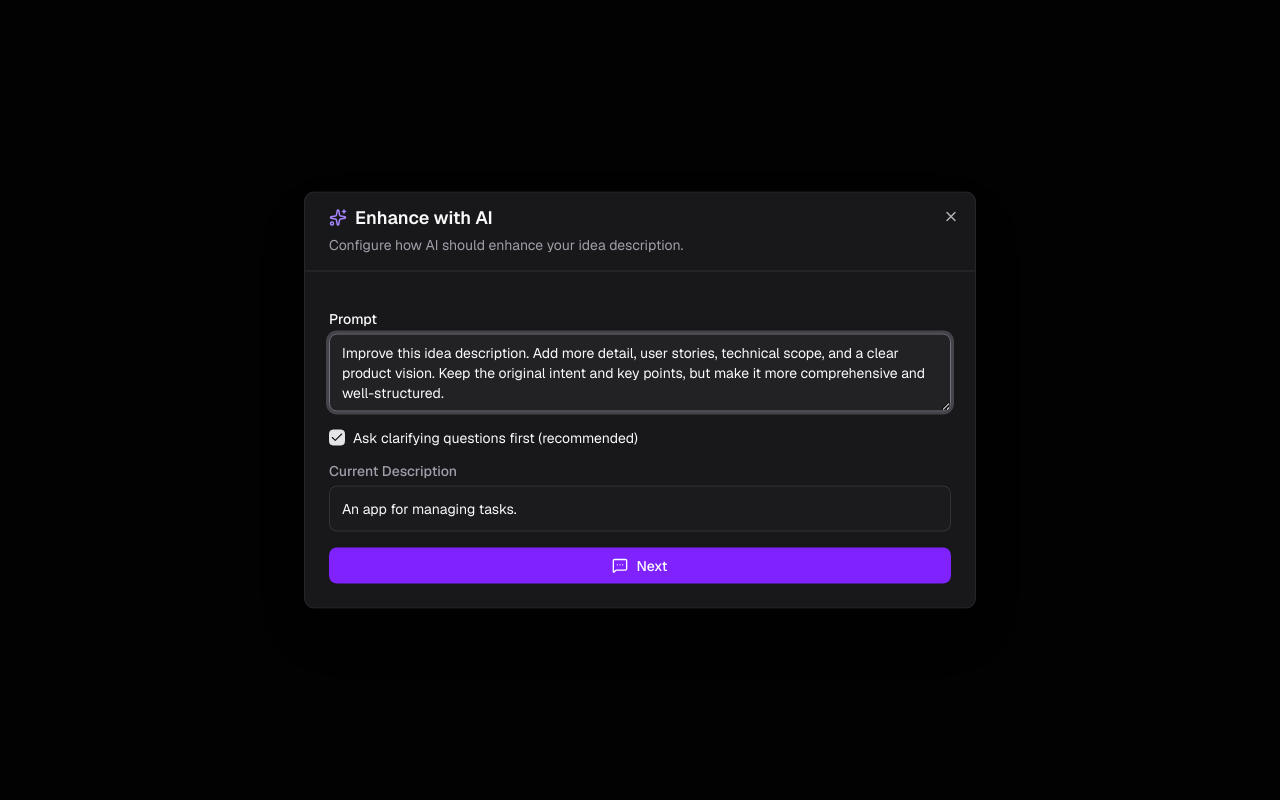
Test: EnhanceDialogShell — question generation (regression test for the original bug) › transitions to questions phase after successful generation
Click the button "Next" at [640, 566], box [329,548,951,584]
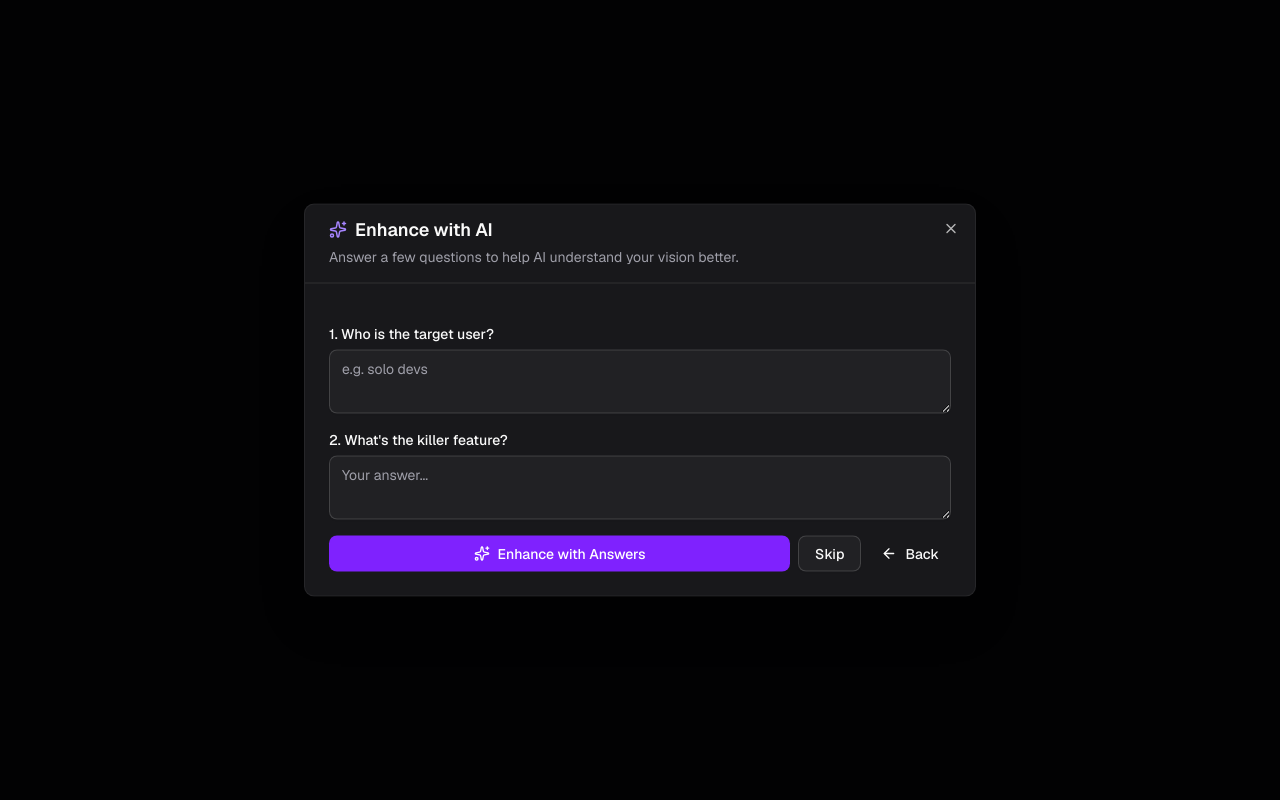
Check: the text "1. Who is the target user?" is shown, box [329,324,494,342]
Check: the text "2. What's the killer feature?" is shown, box [329,430,508,448]
Check: the button "Next" is gone
